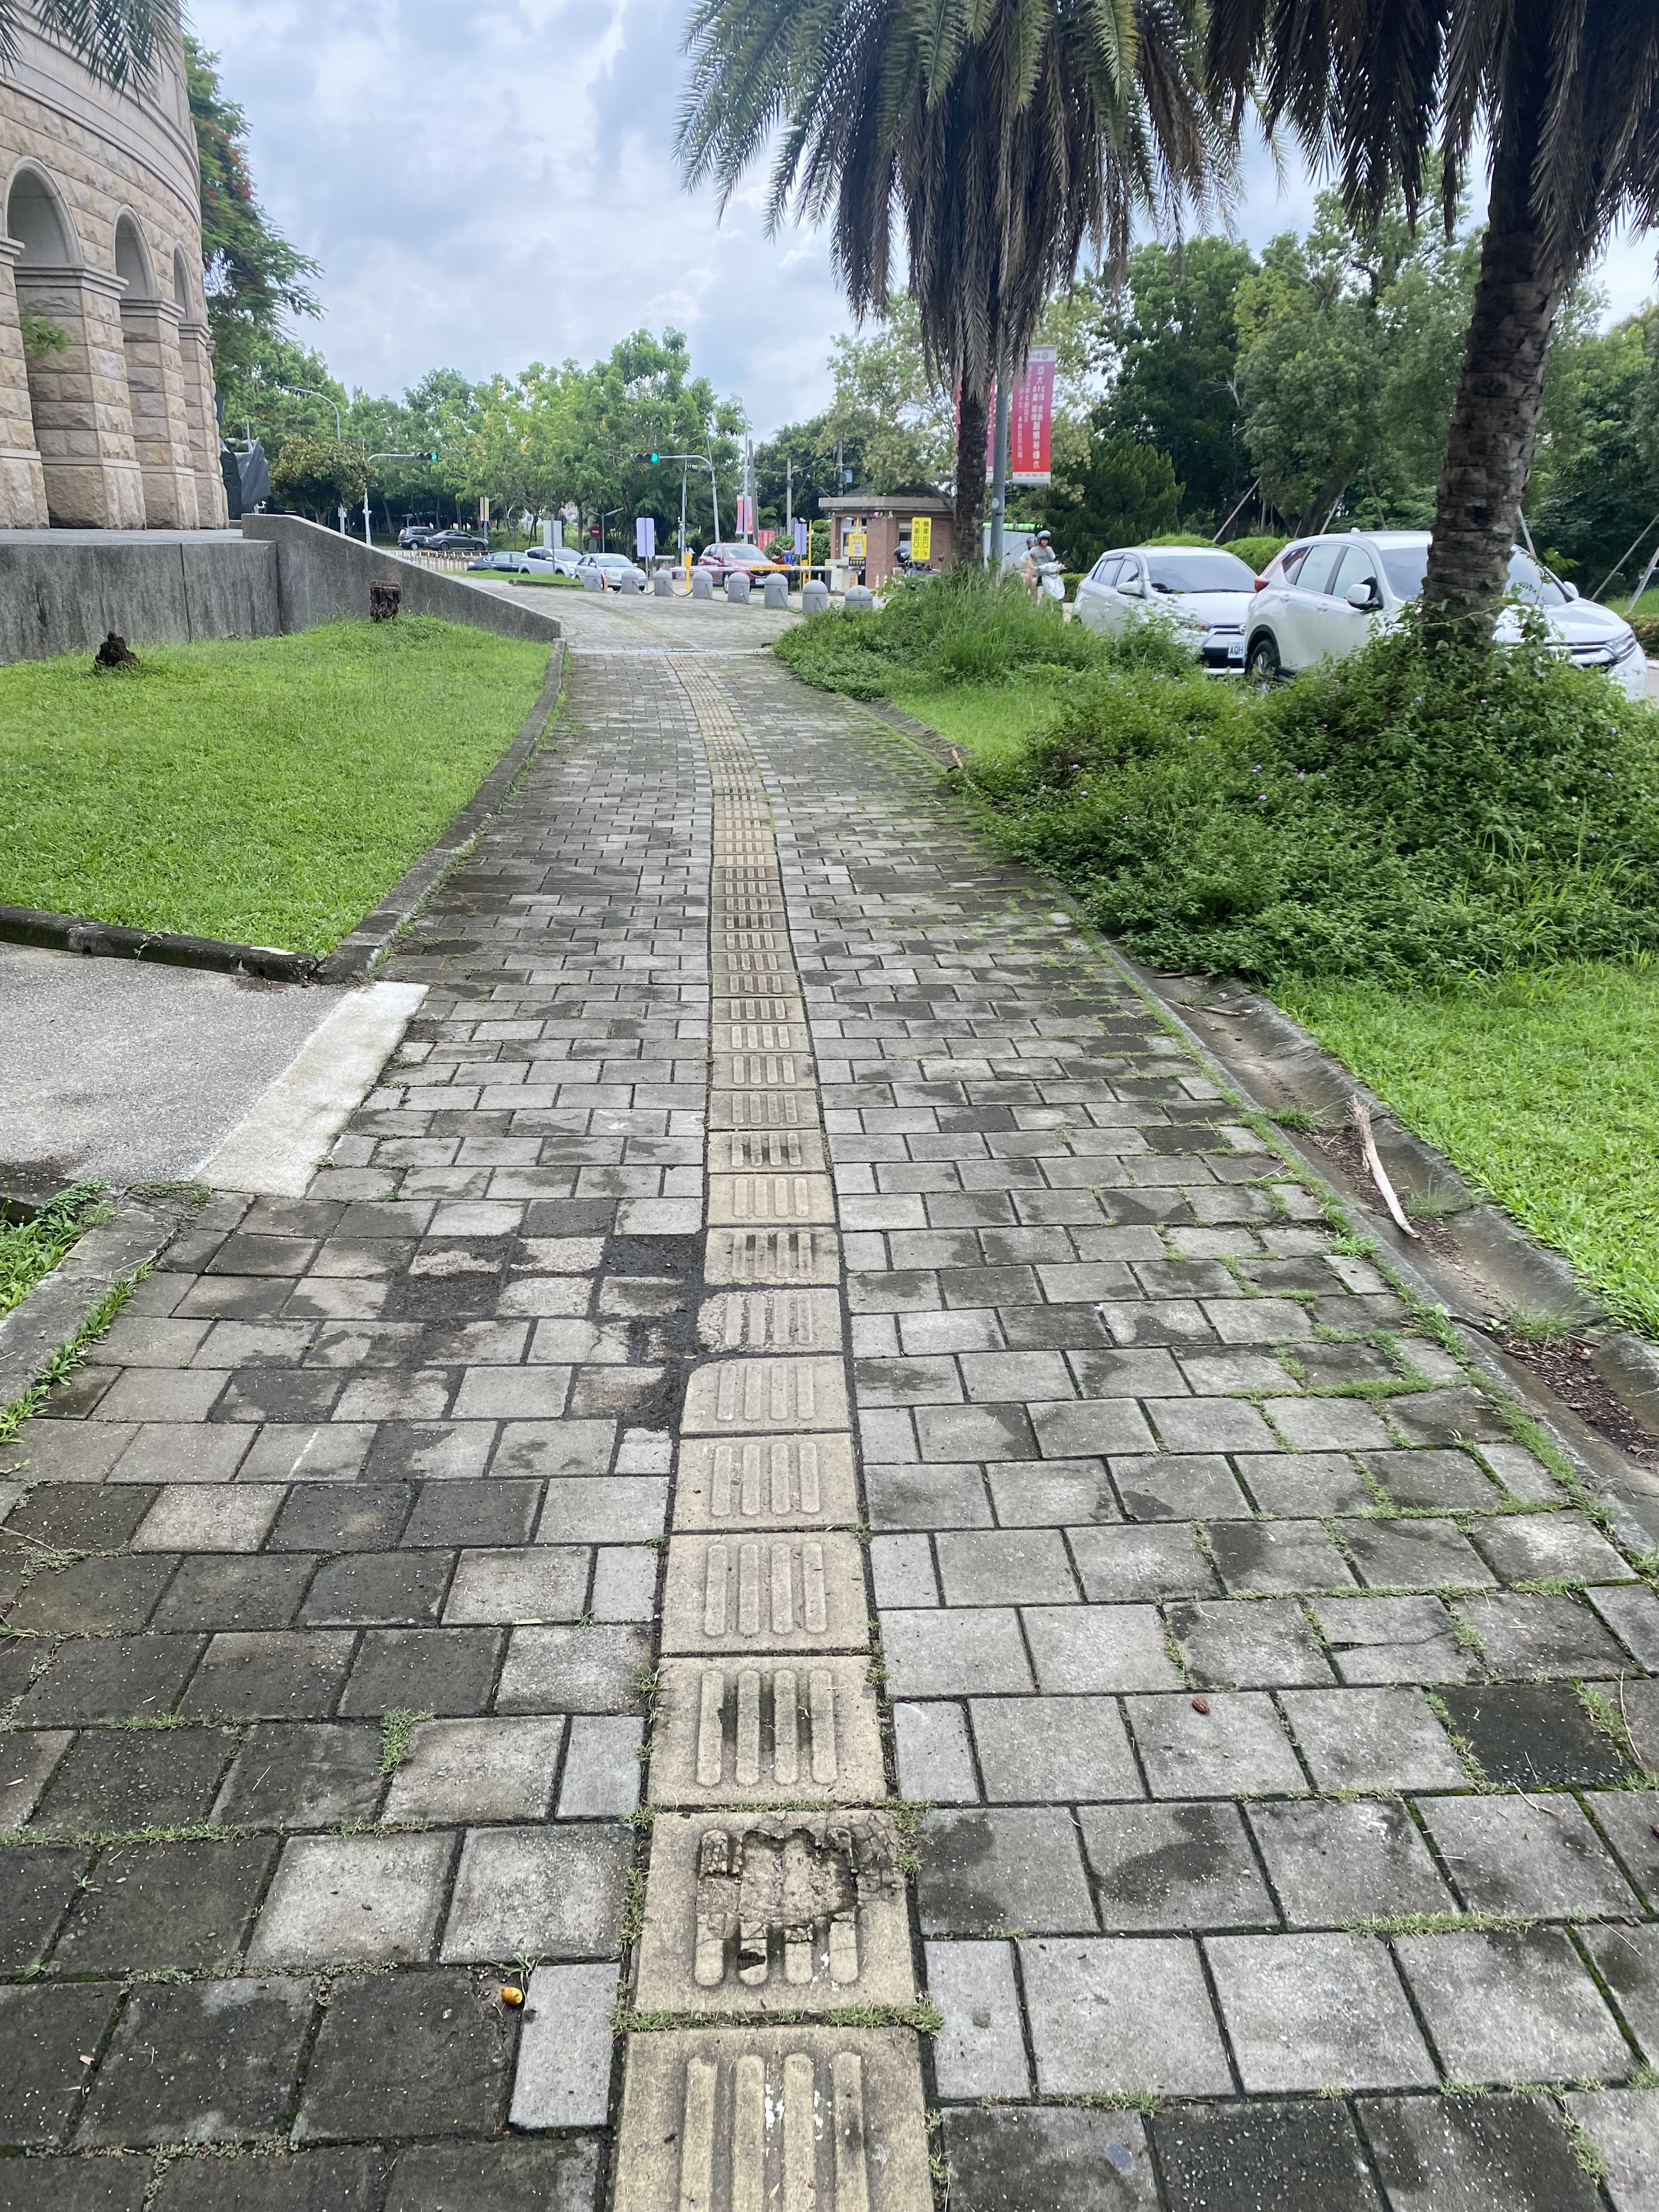0: (7, 864, 1659, 2212)
sidewalk: (464, 559, 1197, 1629)
